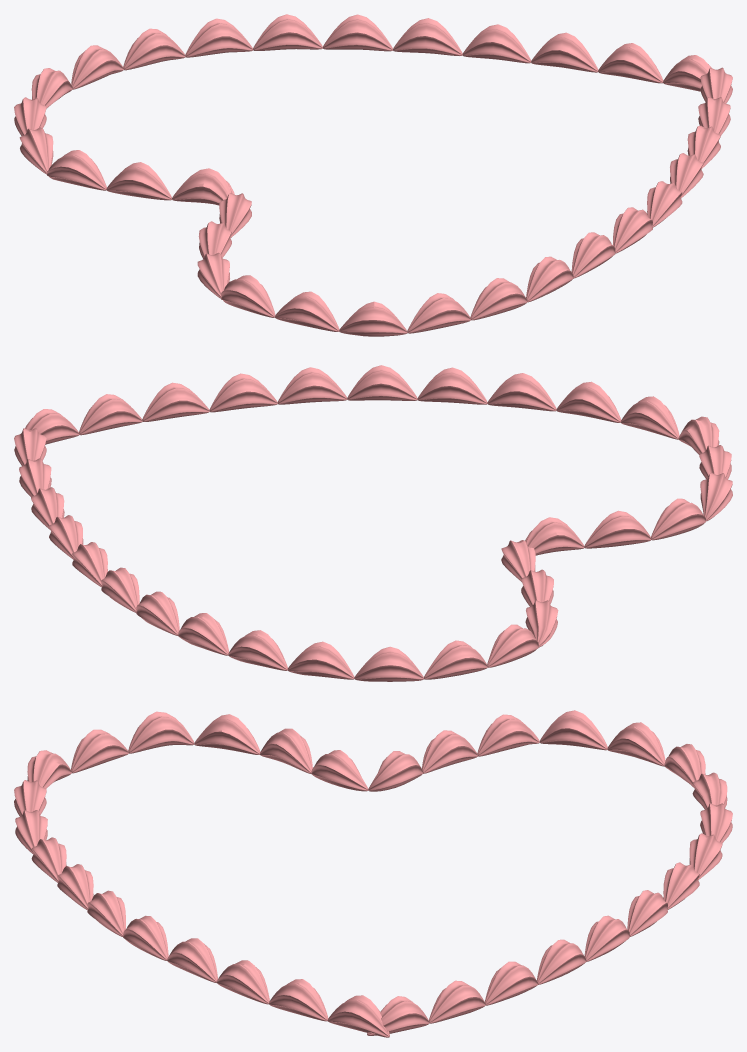
Rendered from DecoGlazePink.glb.
The picture shows the model from 3 angles, top to bottom: view 1: azimuth 30°, elevation 25°; view 2: azimuth 150°, elevation 25°; view 3: azimuth 270°, elevation 25°; orthographic projection.
Visible parts, largest first — view 1: Star.028; view 2: Star.028; view 3: Star.028.
Boxes of the visible parts, <box> form: Star.028: <box>14,14,732,336</box>; Star.028: <box>14,365,732,681</box>; Star.028: <box>14,710,732,1037</box>.
Bounding box in the file's own units: 1.57 × 0.0968 × 1.61.
